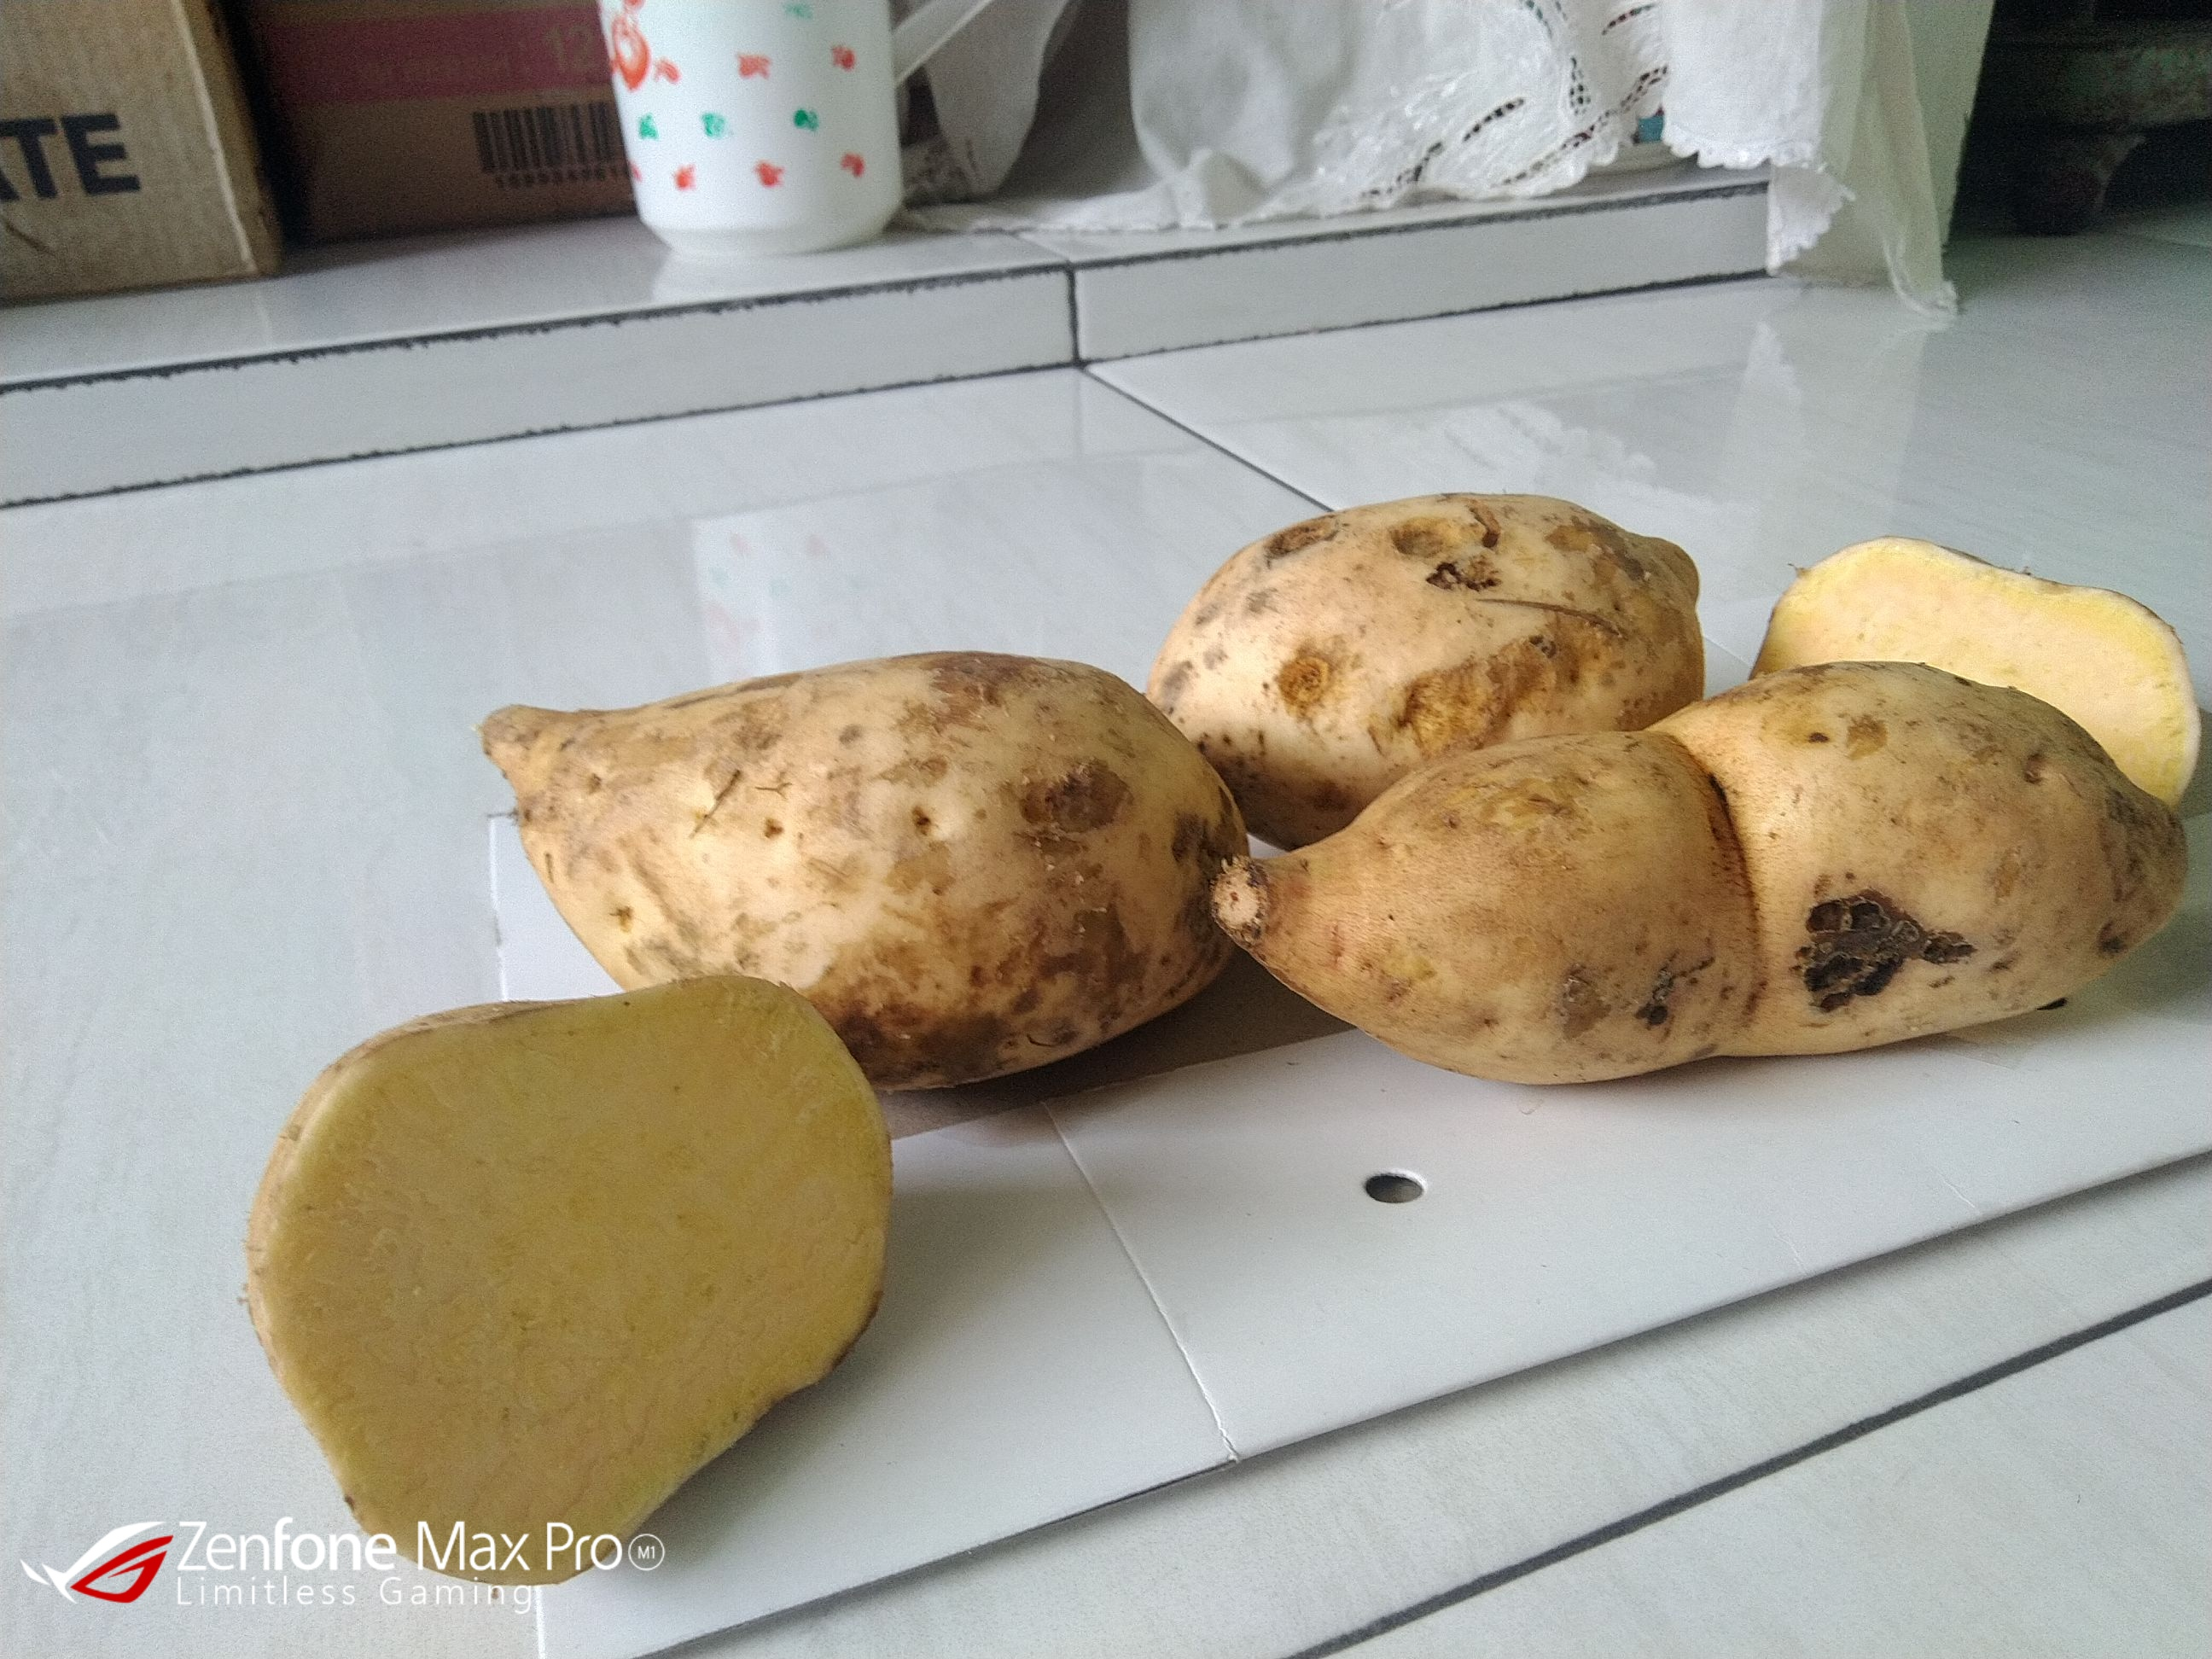ubi kuning: (1211, 657, 2195, 1089), (221, 971, 913, 1567), (474, 641, 1263, 1063), (1141, 488, 1709, 823), (1750, 530, 2212, 810)
